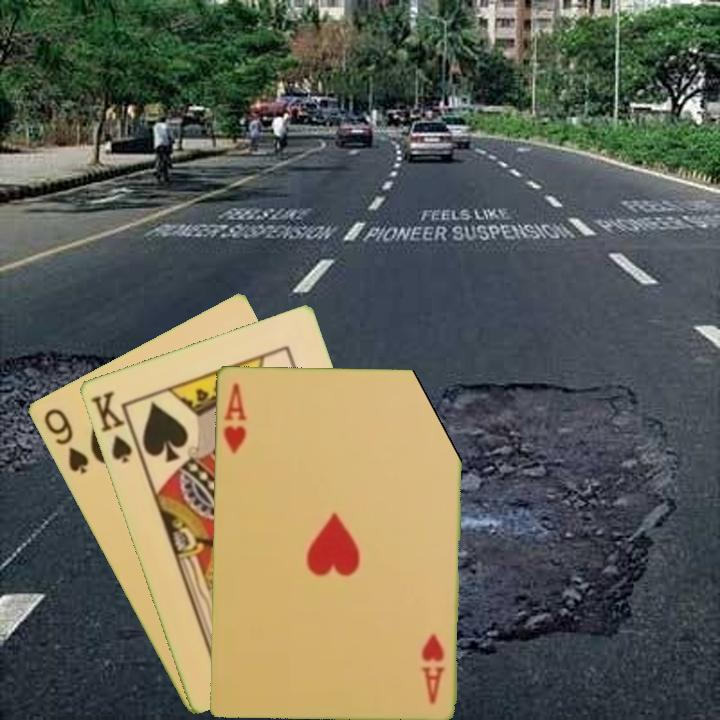9s: (39, 404, 91, 477)
Ah: (219, 379, 249, 456), (419, 629, 447, 706)
Ks: (87, 387, 142, 466)
